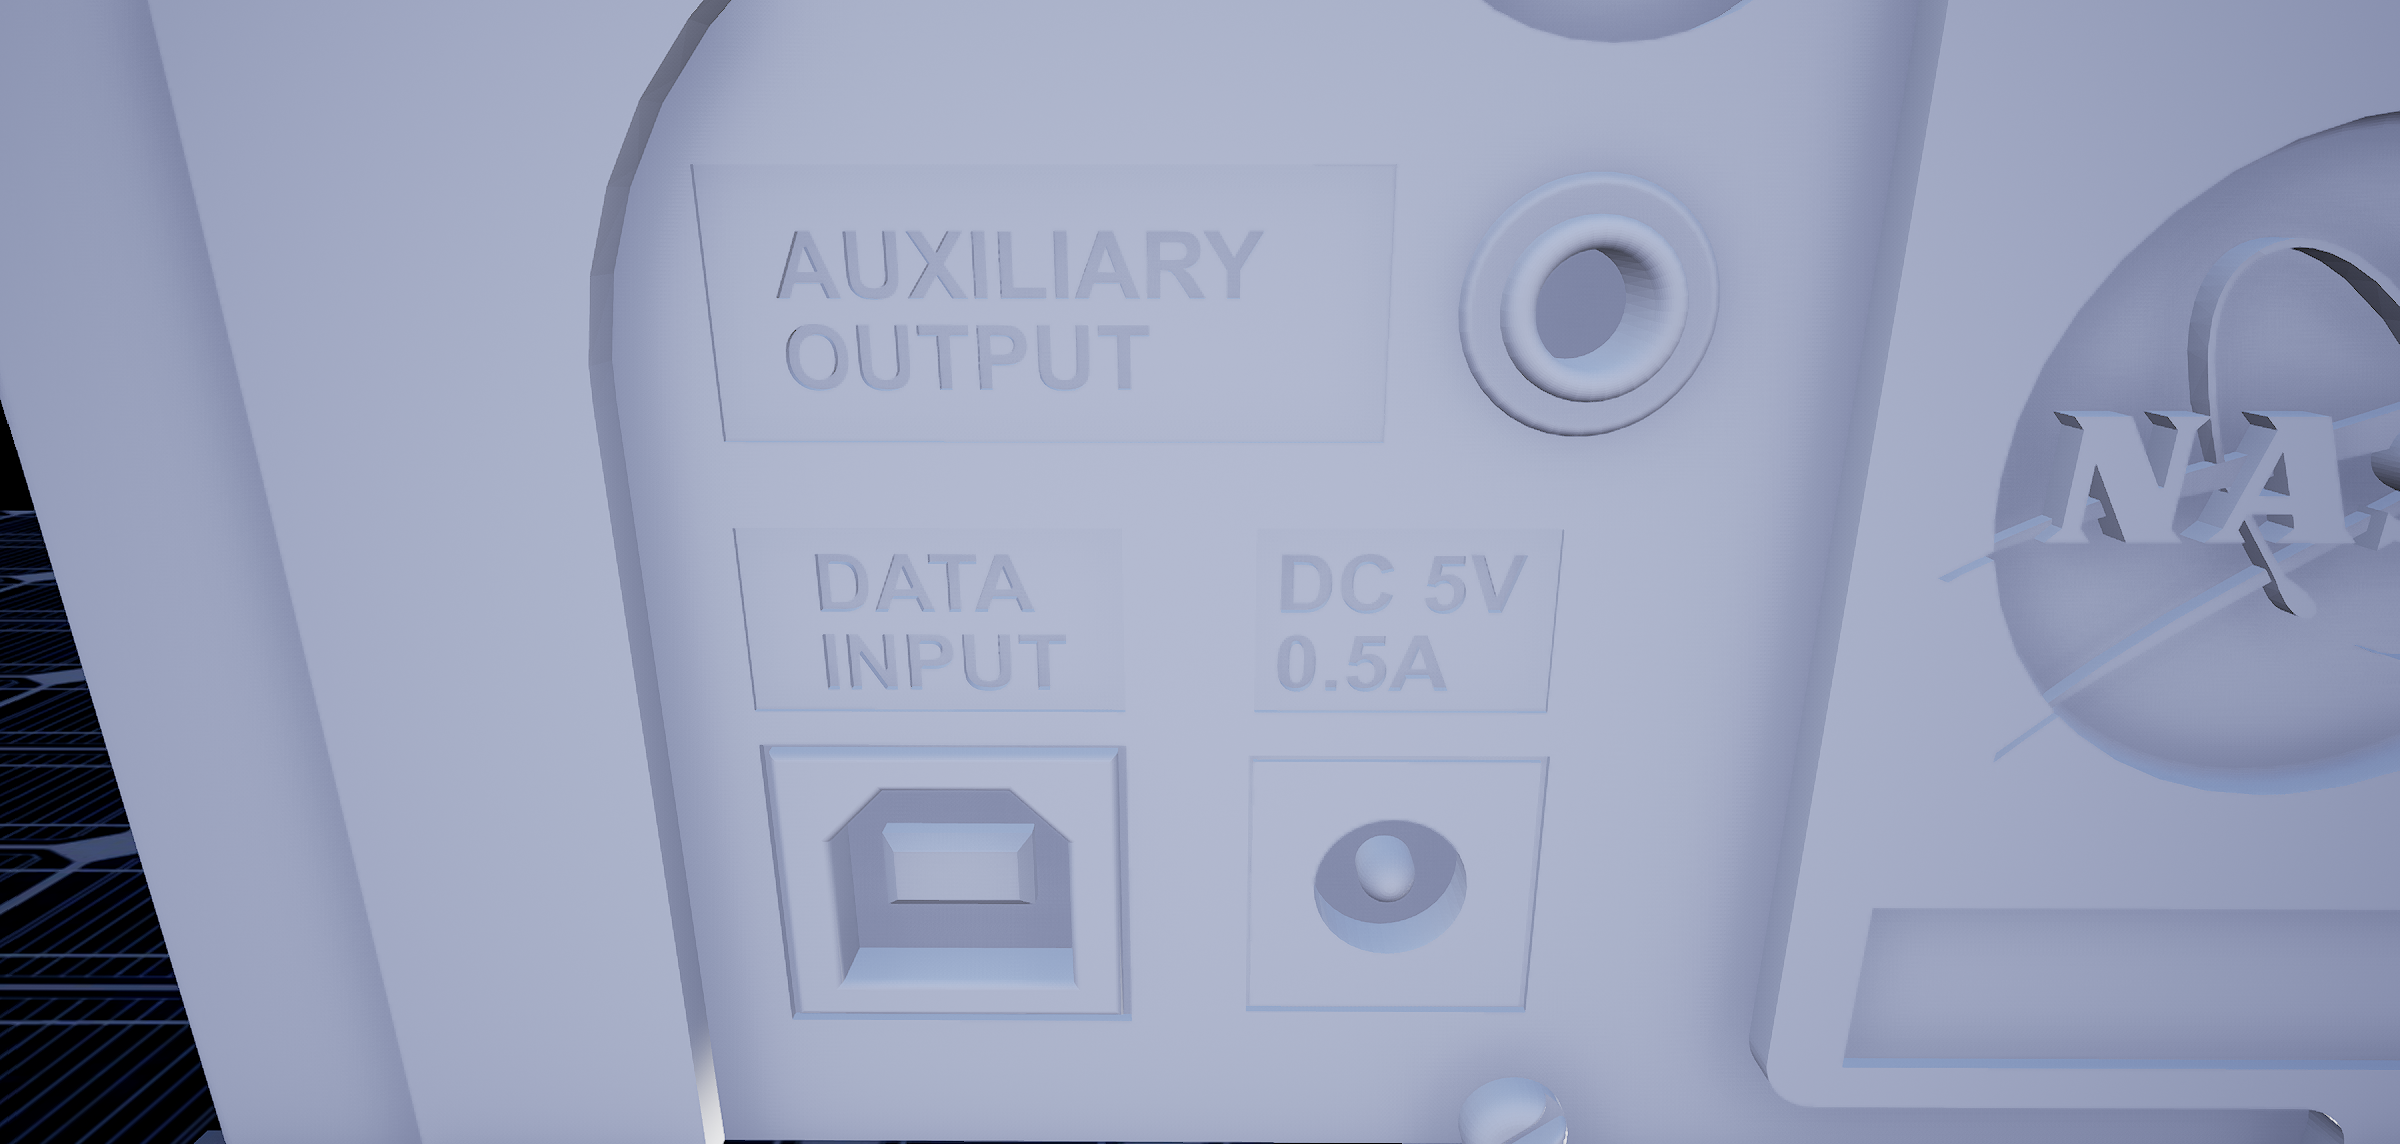aux: (1439, 149, 1737, 458)
dc: (1296, 819, 1497, 956)
usb: (823, 781, 1084, 999)
